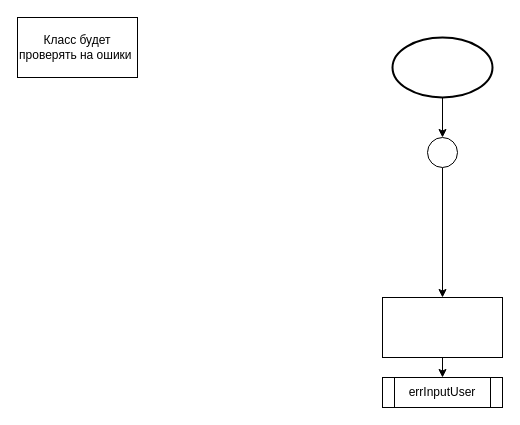
This 520x425 diagram has some shape labels left out. Each missing label, with the centre of its shape:
"Start" belongs at pixel 442 67.
"Проврека ввода пользователя" belongs at pixel 442 327.
